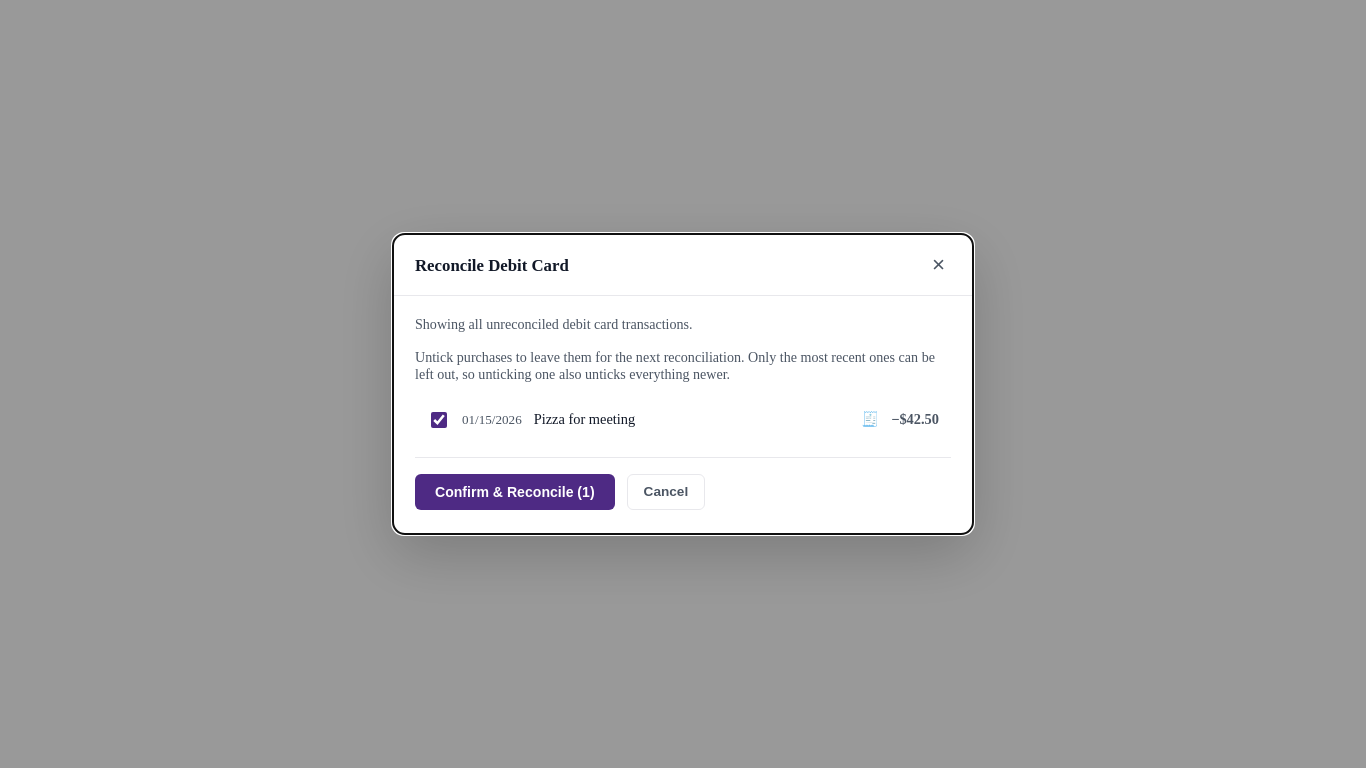
Test case: ReconciliationModal › shows an error message when reconciling fails, and stays on the review step
Click the button "Confirm & Reconcile (1)". click: click(515, 492)
box: [415, 474, 615, 510]
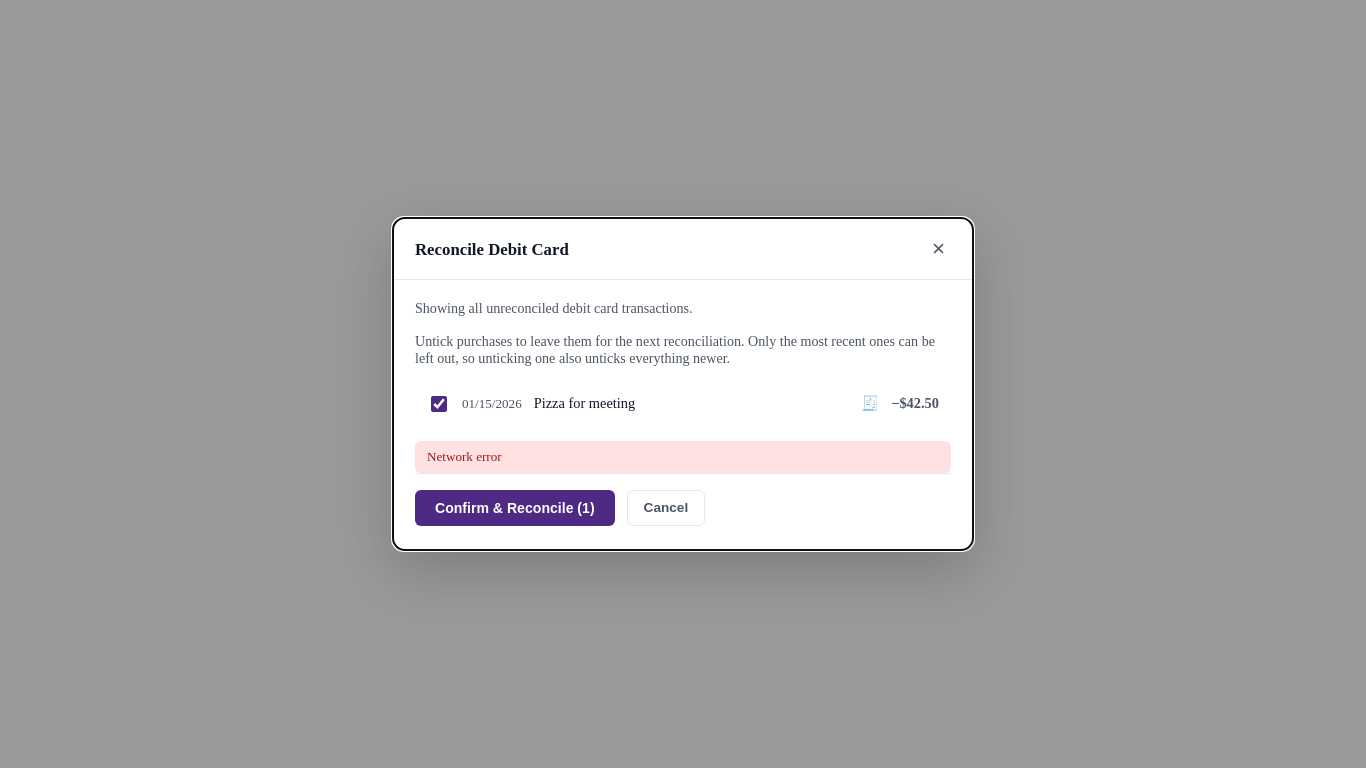
expect the text "Network error" is shown: met, box [415, 441, 951, 473]
